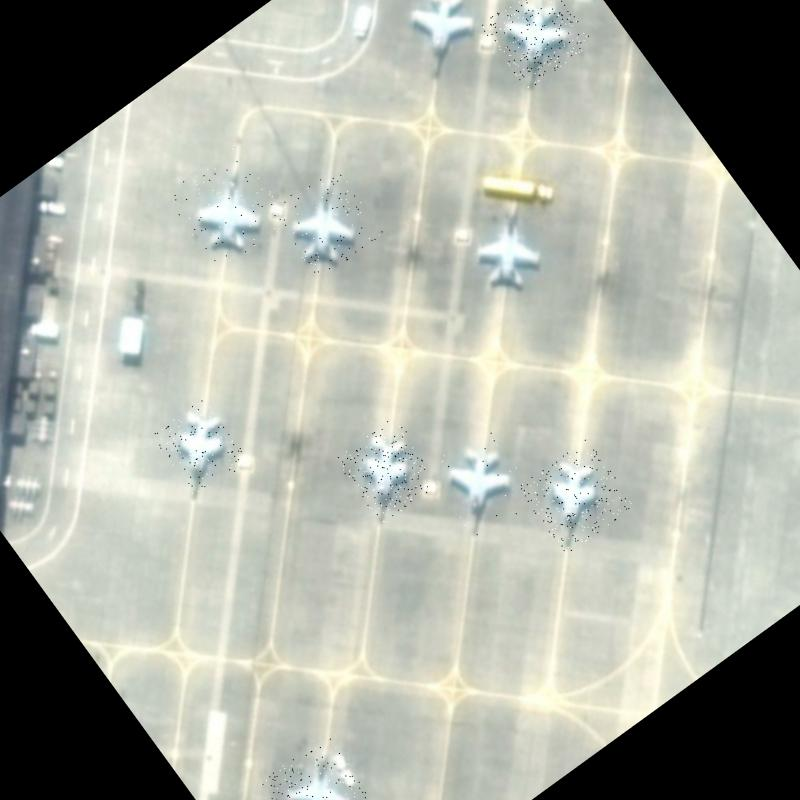A16: (164, 141, 294, 272), (420, 422, 541, 544), (449, 188, 568, 311), (516, 436, 636, 556), (268, 162, 384, 280), (334, 415, 442, 524), (479, 0, 594, 91), (150, 395, 251, 498), (388, 0, 498, 81), (259, 733, 377, 800)
